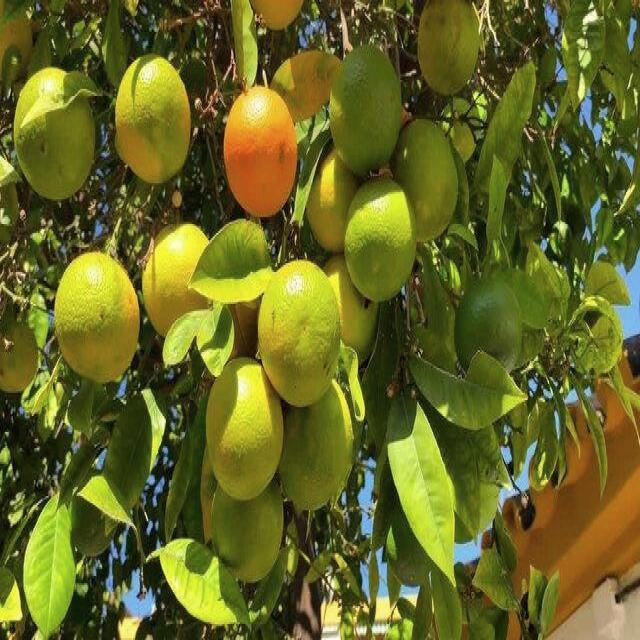Jeruk Belum Matang: (258, 256, 344, 407), (205, 356, 286, 500), (277, 374, 358, 516), (54, 252, 140, 384), (13, 70, 93, 196), (115, 55, 191, 183), (329, 42, 400, 174), (141, 220, 216, 342), (348, 181, 418, 304), (394, 122, 459, 245), (210, 480, 286, 580), (451, 276, 523, 380), (414, 0, 479, 94), (310, 149, 357, 251), (0, 293, 40, 393)
Jeruk Sudah Matang: (224, 87, 300, 228)
